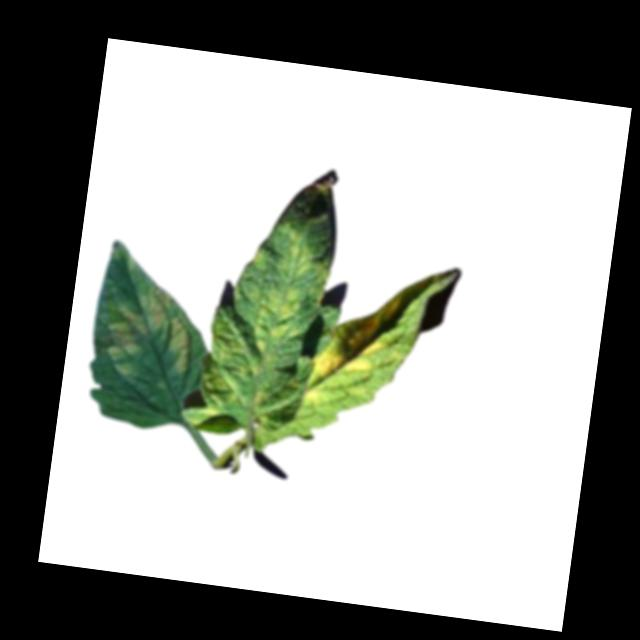Leaf_Mold: (94, 279, 198, 389), (310, 281, 401, 388), (247, 222, 318, 358), (195, 313, 266, 415), (302, 385, 326, 406)
